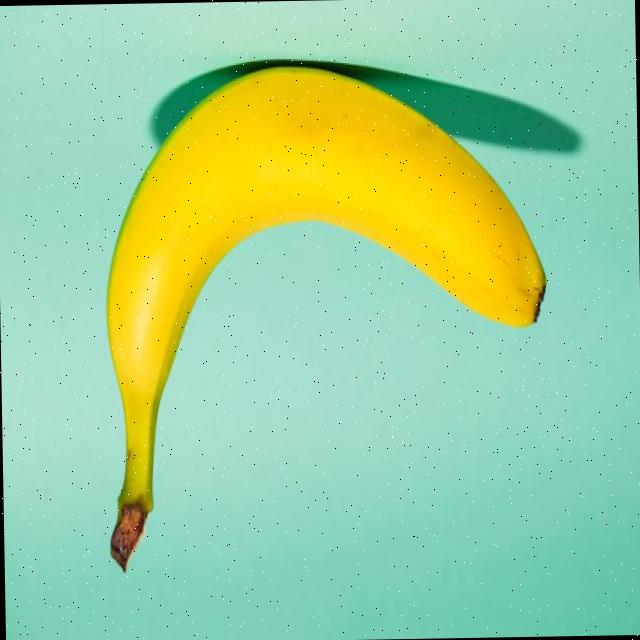Pisang: (101, 61, 552, 574)
